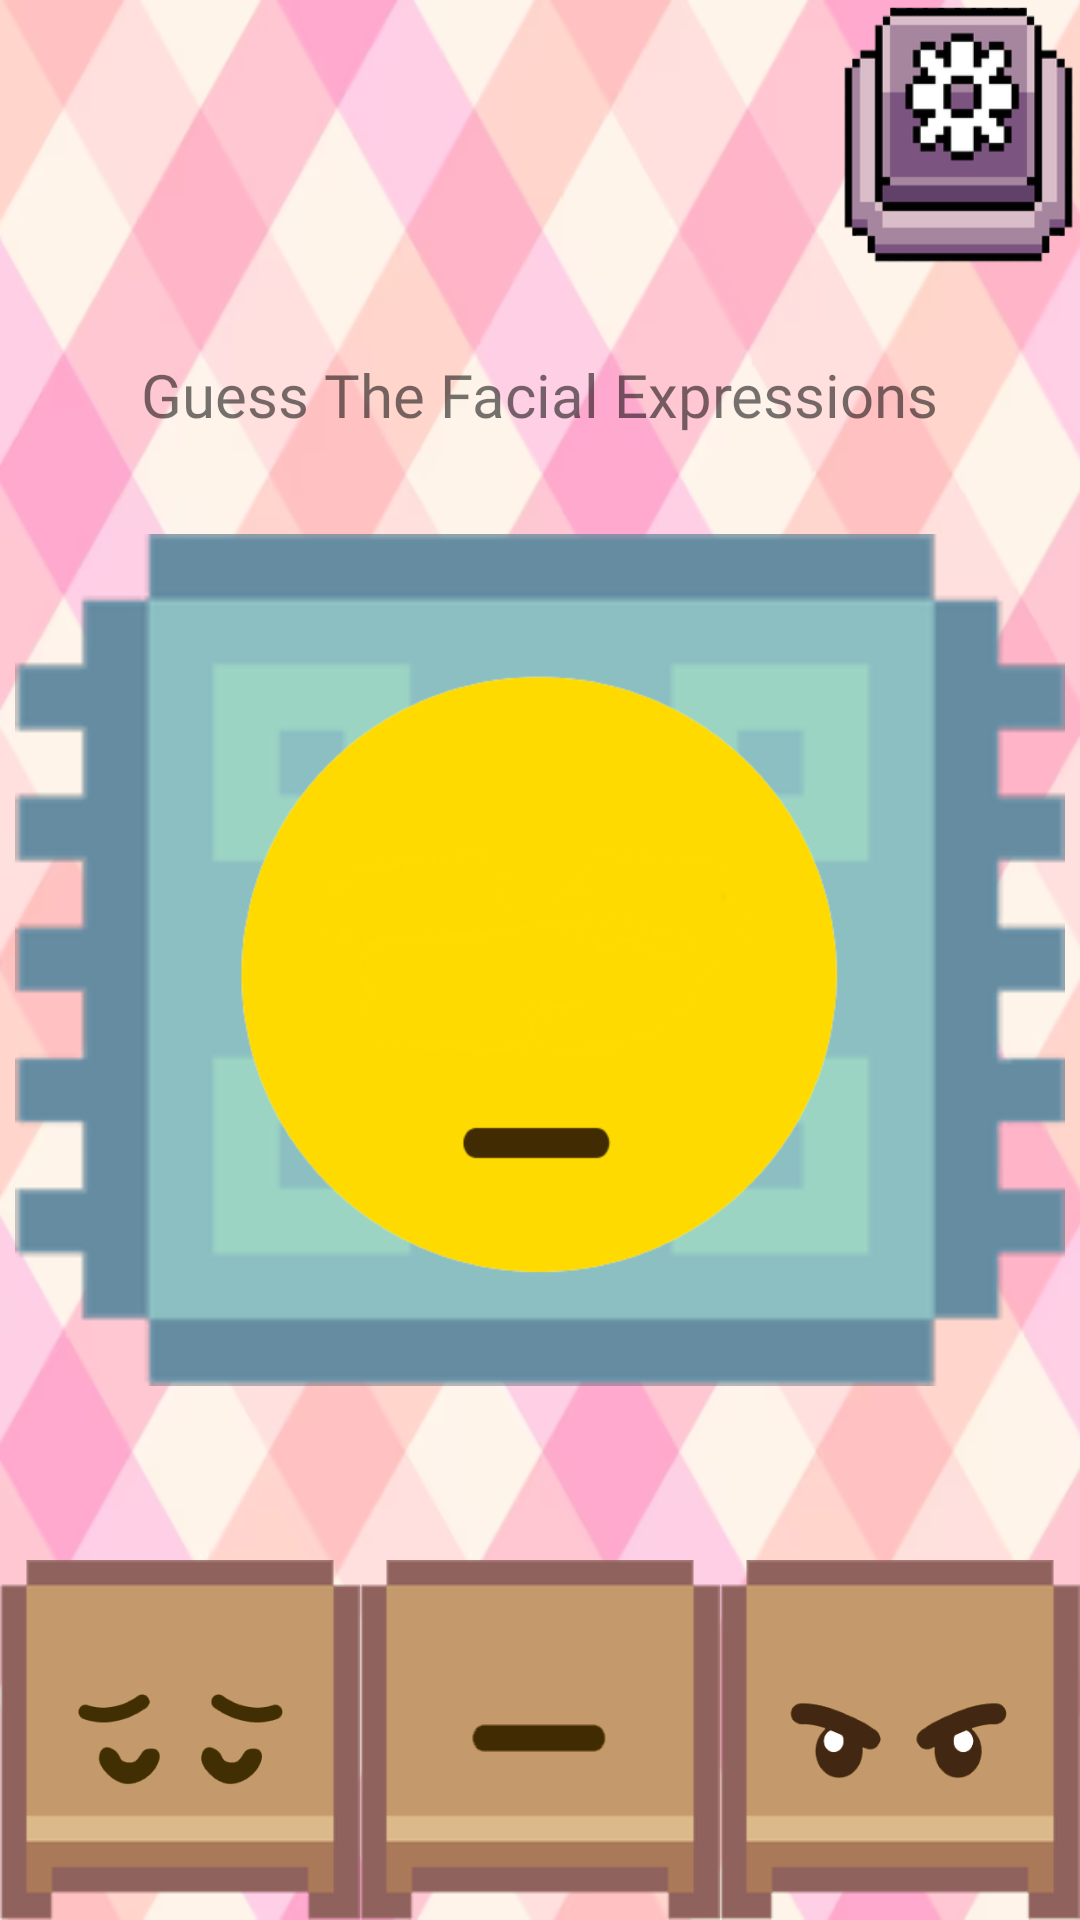

Icons on this 1080px x 1920px Android screen, each with the point to tap as (x,y):
angry eye: (898,1740)
sad eye: (179,1773)
